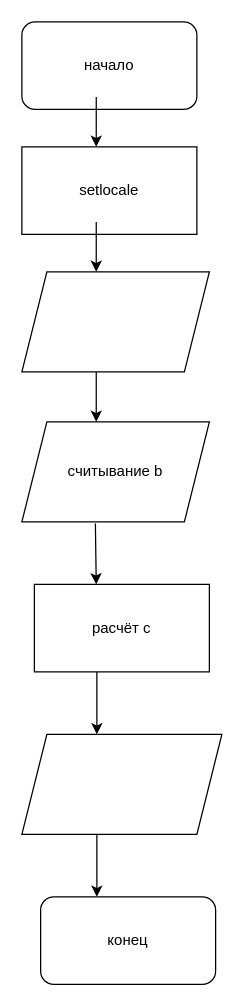
Image size: 244x1006. Some labels were removed from this diagram. The shapes that lost their labels are listed below. From the top down, each one's box as (x1, y1, x2, y2) in pixels, then its label:
(21, 271, 209, 372): считывание a
(21, 733, 222, 834): вывод результата
